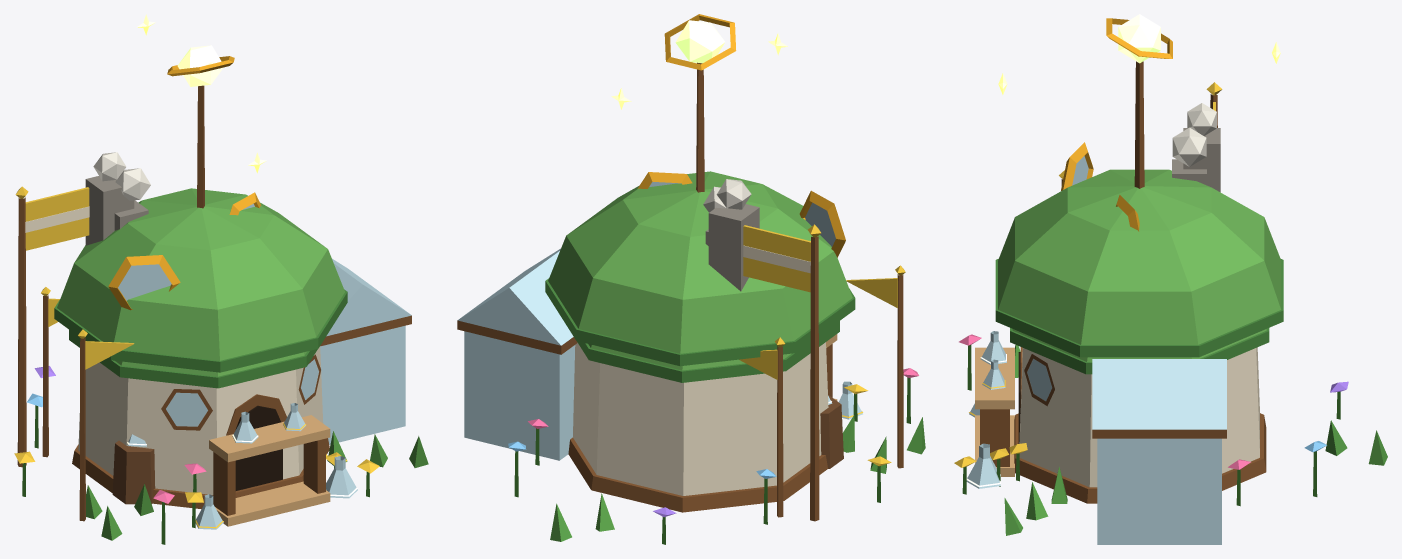
File: pollen-lab.glb
3 renders of one model, left to right at view 1: azimuth 30°, elevation 25°; view 2: azimuth 150°, elevation 25°; view 3: azimuth 270°, elevation 25°, orthographic. The views are drawn at different scales.
Parts seen in each view (by area): view 1: lv3, lv2, lv1; view 2: lv3, lv2, lv1; view 3: lv3, lv2, lv1.
Boxes of the visible parts, box(x1,y1,x2,y2) form: lv3: box(14, 14, 428, 544); lv2: box(27, 168, 387, 528); lv1: box(112, 431, 347, 515); lv3: box(457, 14, 925, 544); lv2: box(528, 172, 886, 531); lv1: box(820, 395, 854, 468); lv3: box(954, 14, 1387, 544); lv2: box(975, 127, 1347, 520); lv1: box(1009, 443, 1067, 503).
Size of the model in its own units: 1.8 by 1.92 by 1.74.
